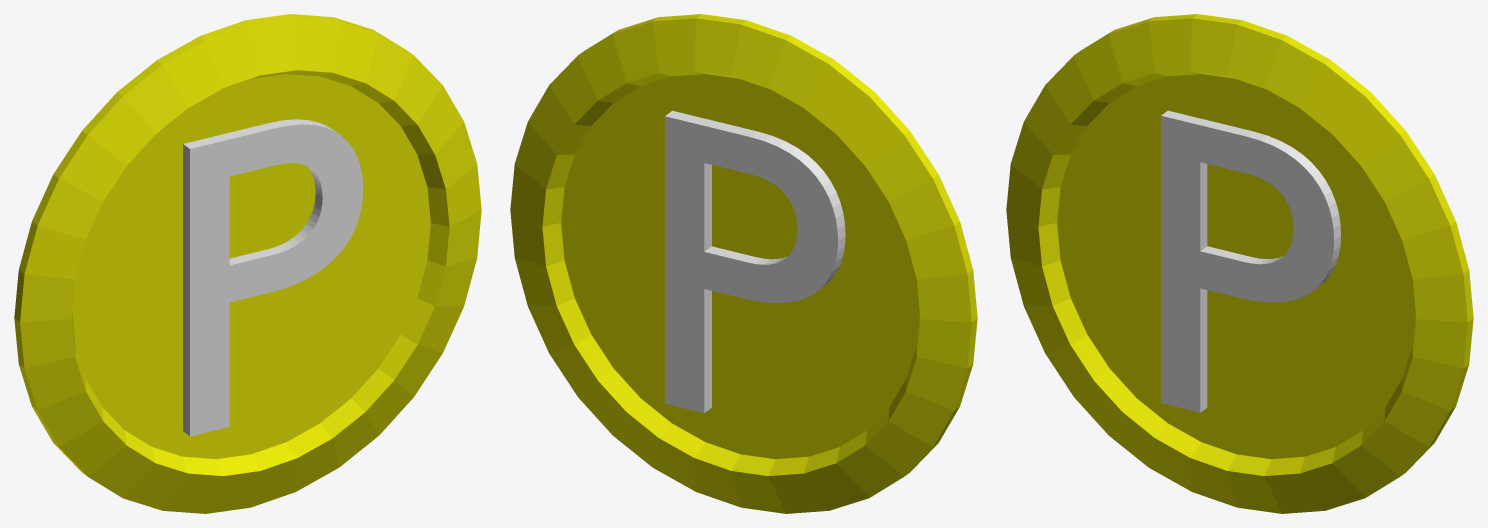
Rendered from PCoin Model.fbx.
3 renders of one model, left to right at view 1: azimuth 30°, elevation 25°; view 2: azimuth 150°, elevation 25°; view 3: azimuth 330°, elevation 25°, orthographic.
Parts seen in each view (by area): view 1: Circle, Text; view 2: Circle, Text.001; view 3: Circle, Text.
Part boxes in pixels (<box>): Circle: <box>14,14,481,513</box>; Text: <box>183,119,363,436</box>; Circle: <box>510,14,977,513</box>; Text.001: <box>665,110,845,413</box>; Circle: <box>1006,14,1473,513</box>; Text: <box>1161,110,1340,412</box>.
Size of the model in its own units: 370 by 370 by 34.84.
